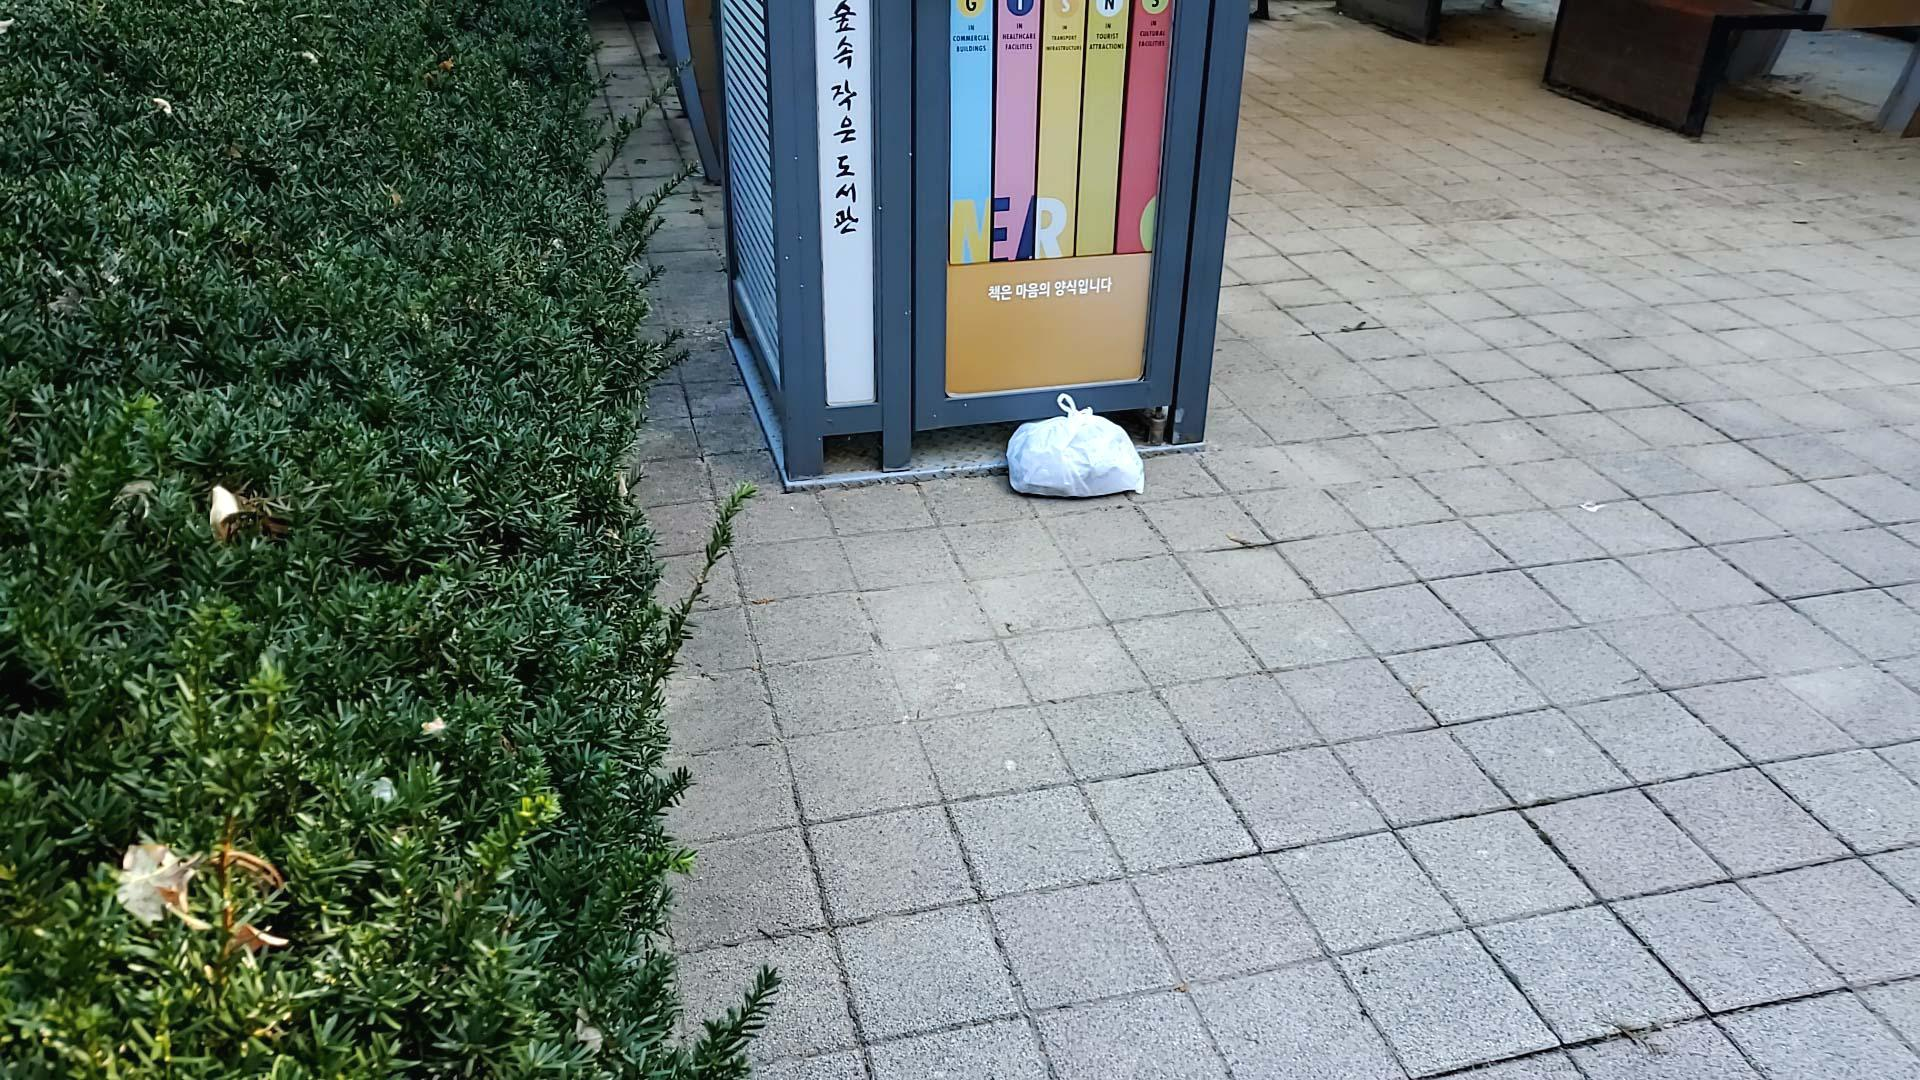white_bag: (993, 377, 1156, 509)
